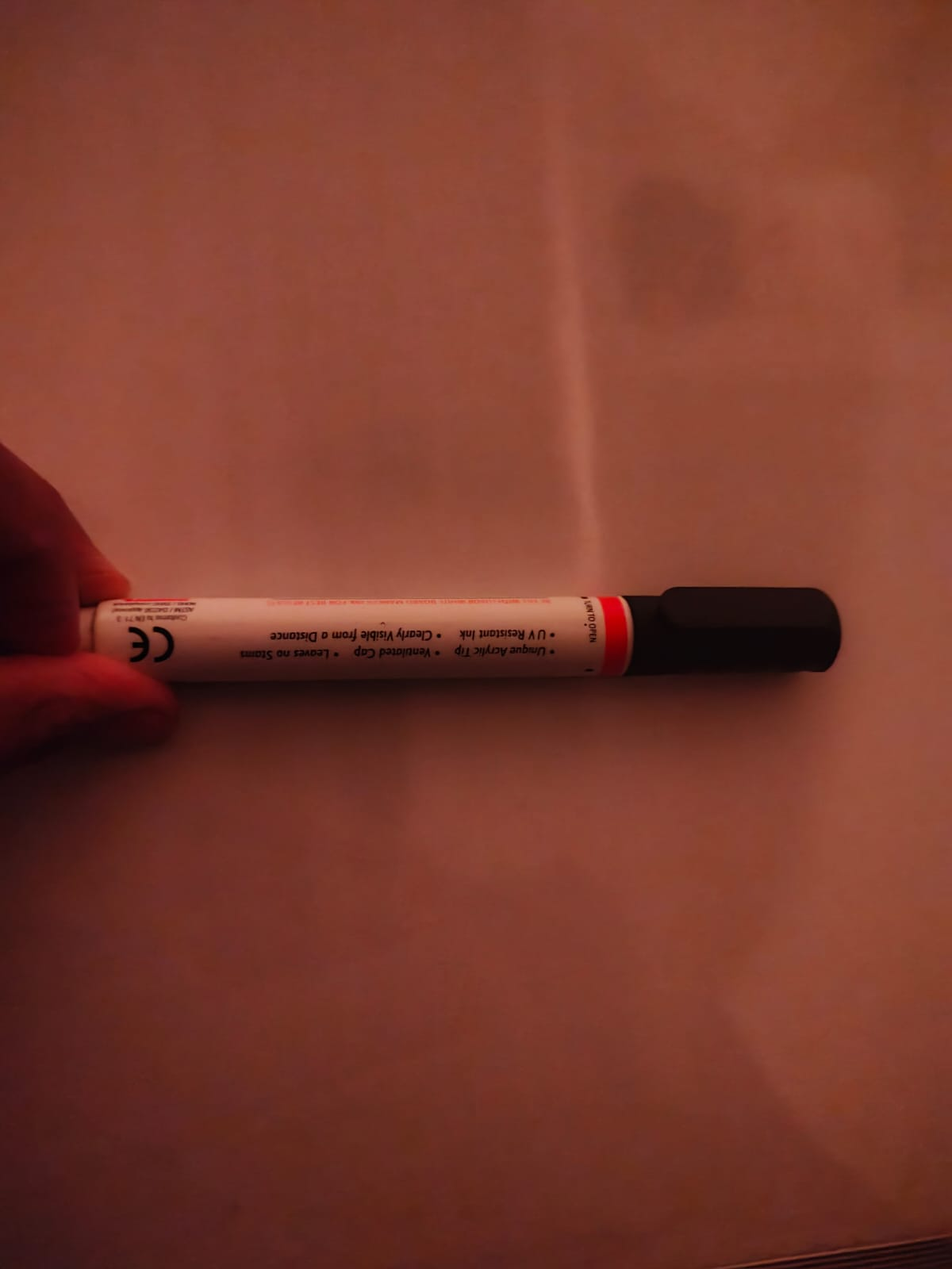case: (51, 556, 873, 682)
